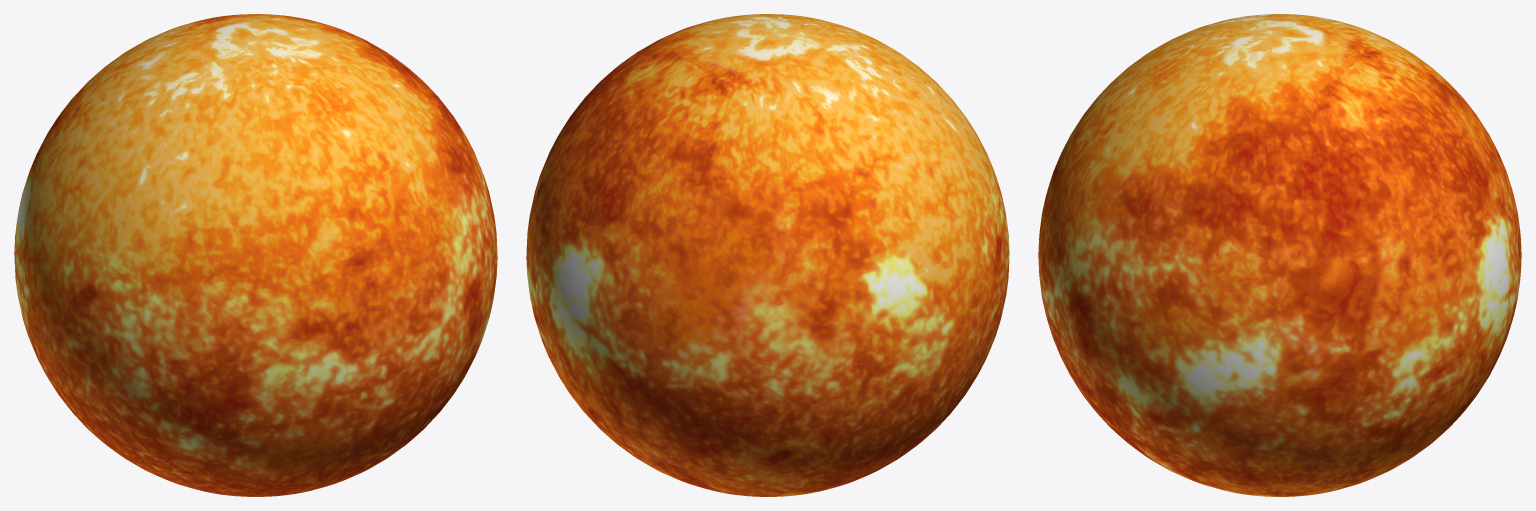
File: sun.glb
The picture shows the model from 3 angles, left to right: view 1: azimuth 30°, elevation 25°; view 2: azimuth 150°, elevation 25°; view 3: azimuth 270°, elevation 25°; orthographic projection.
Visible parts, largest first — view 1: Mars; view 2: Mars; view 3: Mars.
Boxes of the visible parts, left/top/right/bottom form: Mars: left=14, top=14, right=497, bottom=496; Mars: left=526, top=14, right=1009, bottom=496; Mars: left=1038, top=14, right=1521, bottom=496.
Bounding box in the file's own units: 8.32 × 8.32 × 8.32.
1 material, 1 textured.
